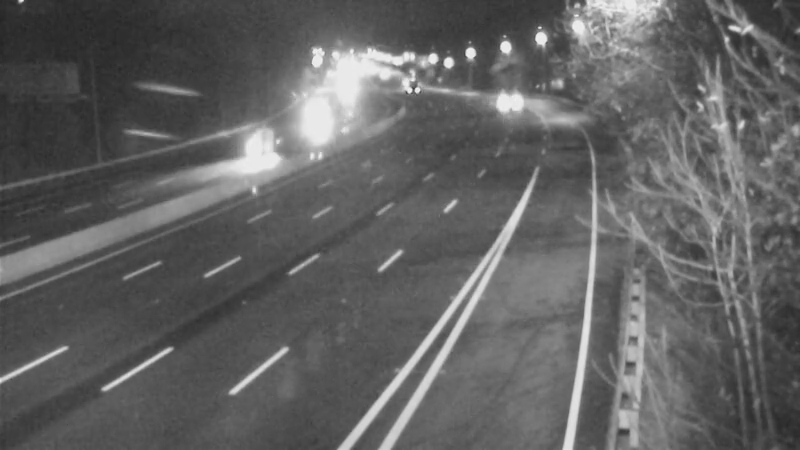vehicle: (382, 55, 432, 105), (478, 73, 528, 123), (231, 125, 281, 175), (287, 98, 337, 148)
